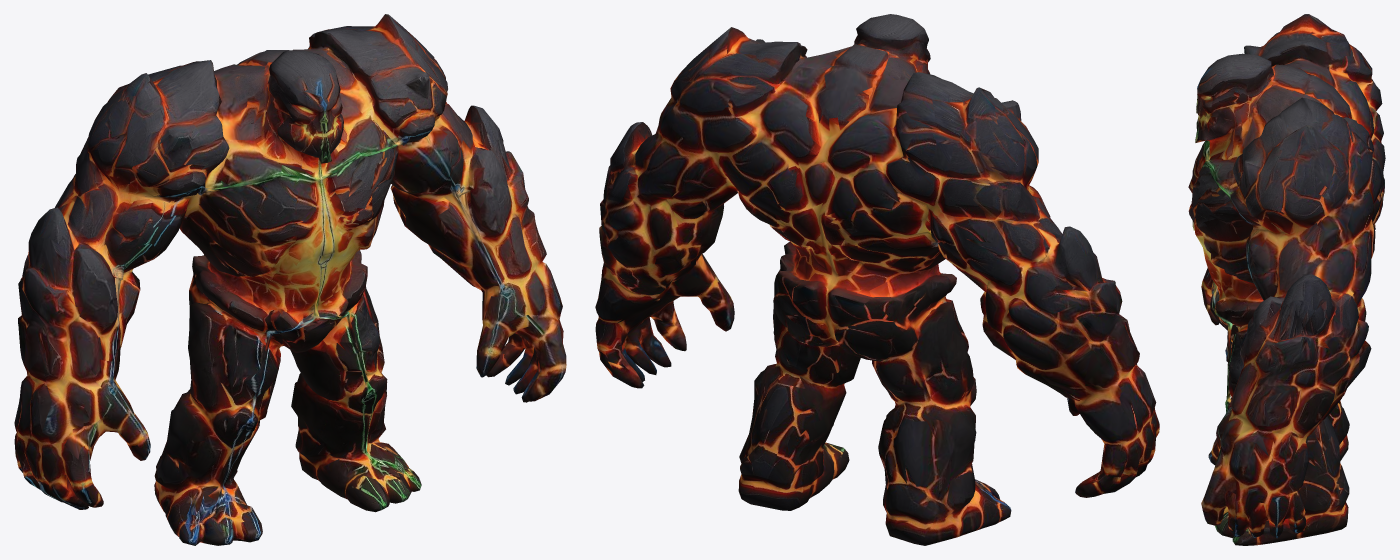
Rendered from mob_golem_lava.glb.
3 renders of one model, left to right at view 1: azimuth 30°, elevation 25°; view 2: azimuth 150°, elevation 25°; view 3: azimuth 270°, elevation 25°, orthographic. The views are drawn at different scales.
Parts seen in each view (by area): view 1: Body; view 2: Body; view 3: Body.
Boxes of the visible parts, bbox=[...] form: Body: bbox=[14, 14, 566, 545]; Body: bbox=[595, 14, 1159, 545]; Body: bbox=[1188, 14, 1385, 545].
Size of the model in its own units: 2.28 by 1.9 by 0.7793.
16 materials, 16 textured.
